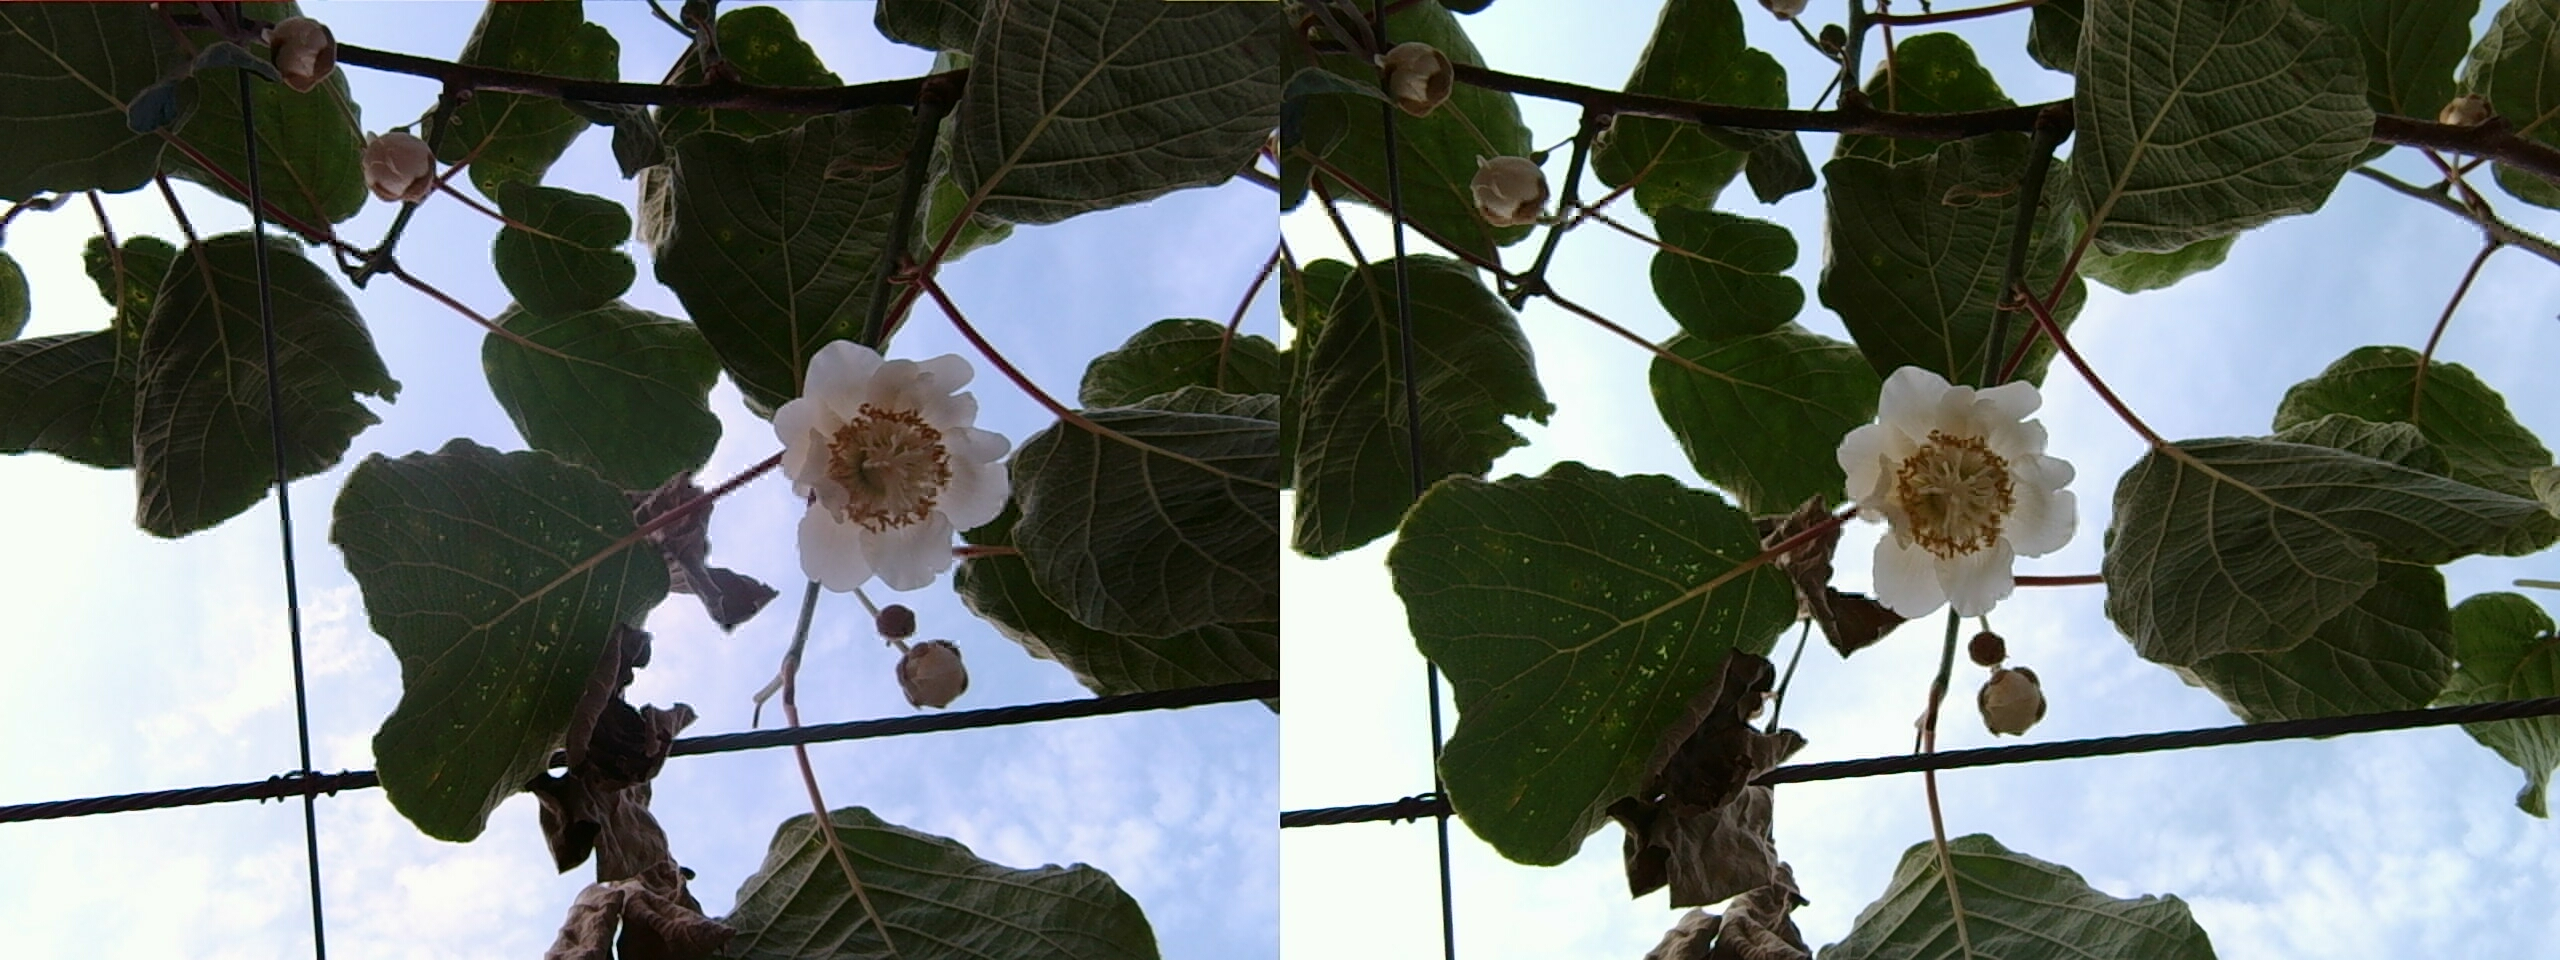flower: (761, 323, 1014, 594), (1840, 358, 2091, 625)
